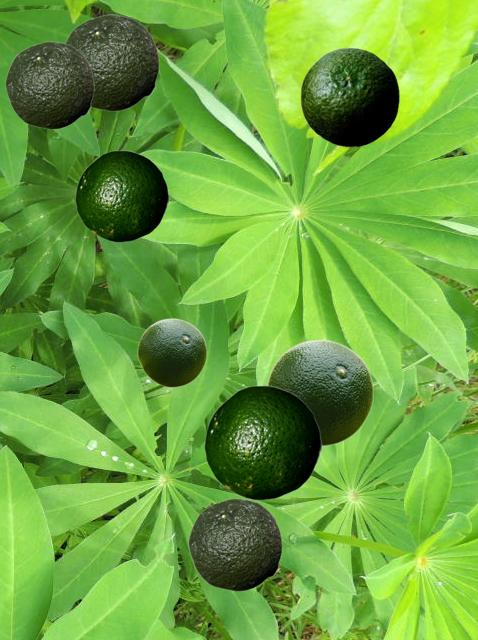calamansi: (204, 385, 321, 499), (266, 339, 373, 445), (300, 47, 398, 146), (65, 14, 158, 110), (188, 498, 281, 590), (75, 150, 168, 241), (5, 41, 93, 128), (137, 318, 206, 386)
